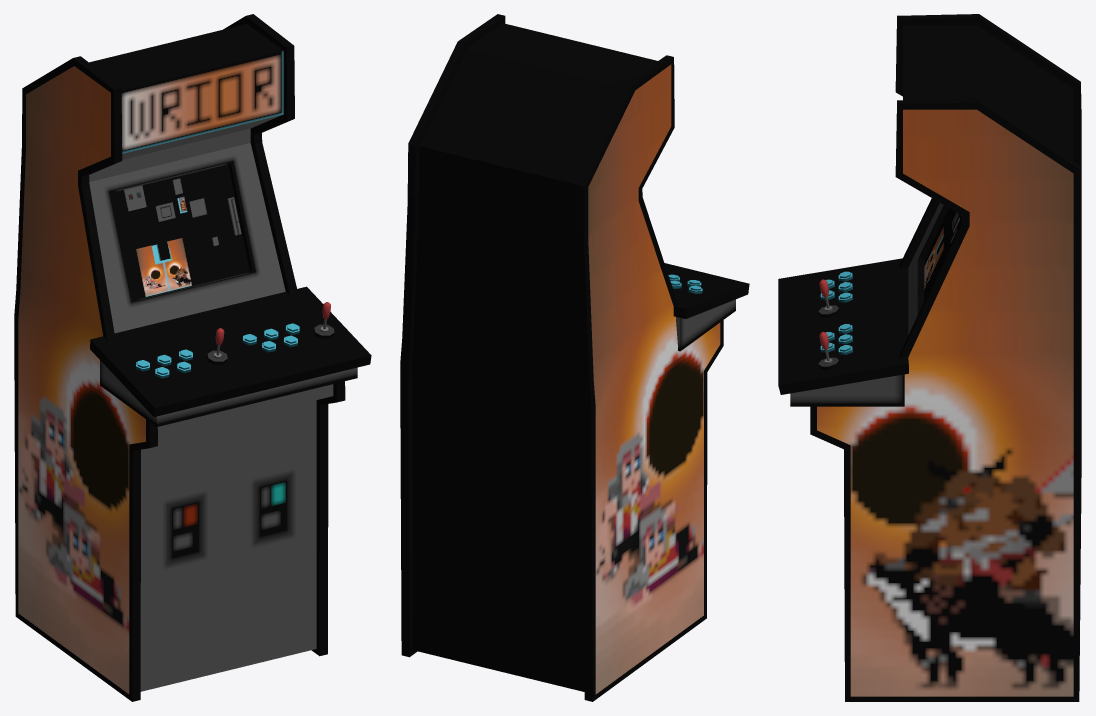
File: ArcadeMachine.fbx
3 renders of one model, left to right at view 1: azimuth 30°, elevation 25°; view 2: azimuth 150°, elevation 25°; view 3: azimuth 270°, elevation 25°, orthographic. The views are drawn at different scales.
Parts seen in each view (by area): view 1: Arcade Cabinet, Cube.005, Screen; view 2: Arcade Cabinet, Cube.005; view 3: Arcade Cabinet, Cube.005, Screen.
Boxes of the visible parts, box(x1,y1,x2,y2) form: Arcade Cabinet: box(14, 14, 345, 701); Cube.005: box(90, 286, 371, 426); Screen: box(115, 178, 241, 296); Arcade Cabinet: box(400, 14, 723, 701); Cube.005: box(664, 263, 749, 351); Arcade Cabinet: box(810, 14, 1081, 701); Cube.005: box(778, 258, 908, 406); Screen: box(924, 208, 961, 300).
Bounding box in the file's own units: 98.8 × 259 × 119.
